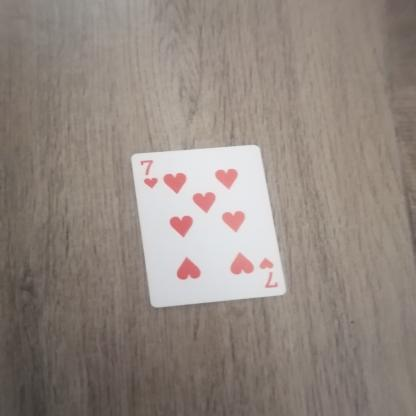7H: (132, 154, 166, 200), (259, 256, 291, 293)
